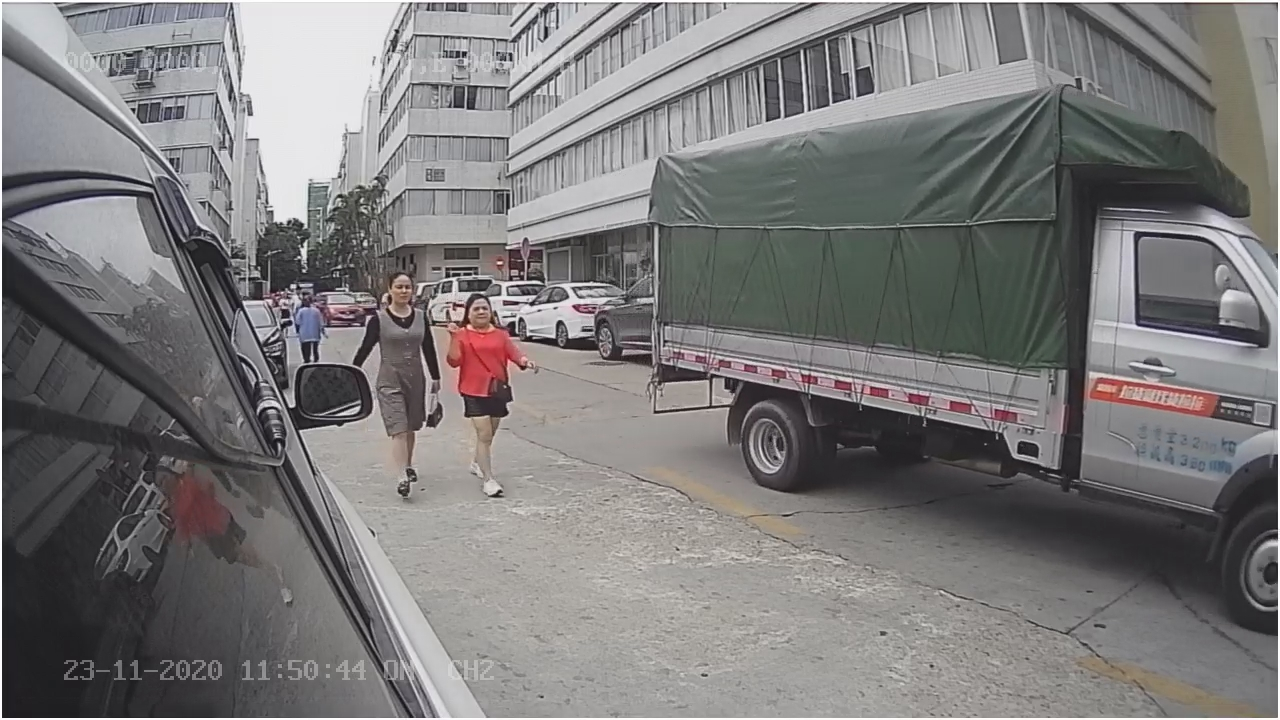person: (446, 282, 542, 501), (354, 259, 437, 499)
